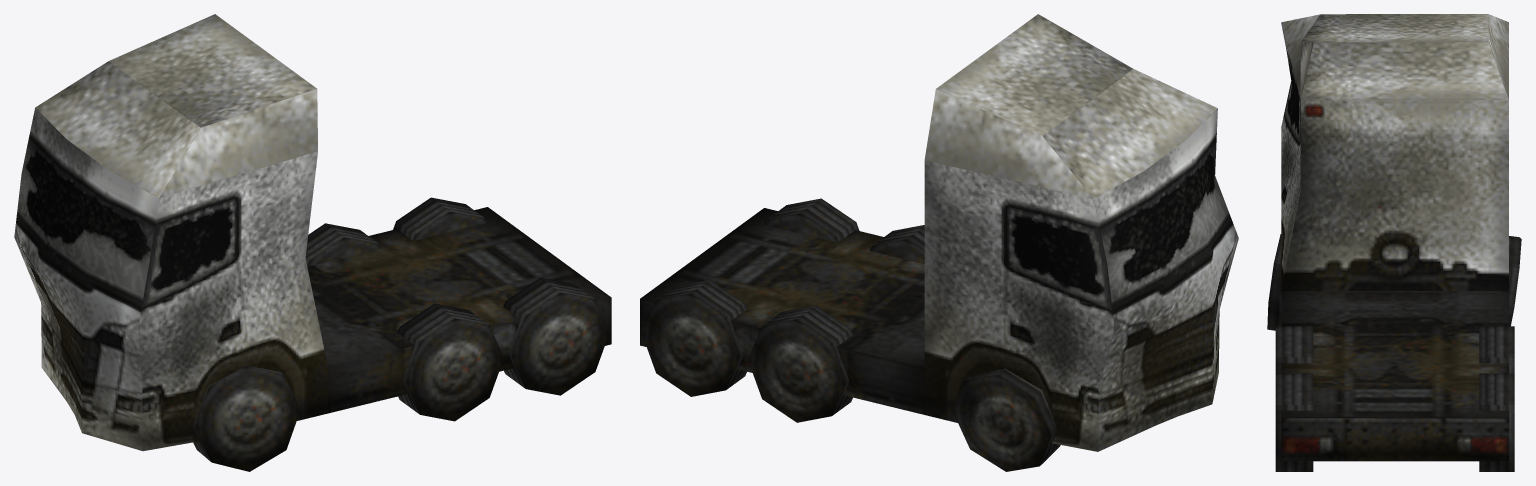
The model's file is lorryfront1.fbx.
3 views of the same model, side by side, from view 1: azimuth 30°, elevation 25°; view 2: azimuth 150°, elevation 25°; view 3: azimuth 270°, elevation 25° (orthographic). The views are drawn at different scales.
Parts seen in each view (by area): view 1: lorryfront1; view 2: lorryfront1; view 3: lorryfront1.
Part boxes in pixels (<box>): lorryfront1: <box>14,14,611,471</box>; lorryfront1: <box>640,14,1238,471</box>; lorryfront1: <box>1267,14,1521,471</box>.
Bounding box in the file's own units: 551 × 270 × 383.
Materials: 1 (1 with a texture image).
